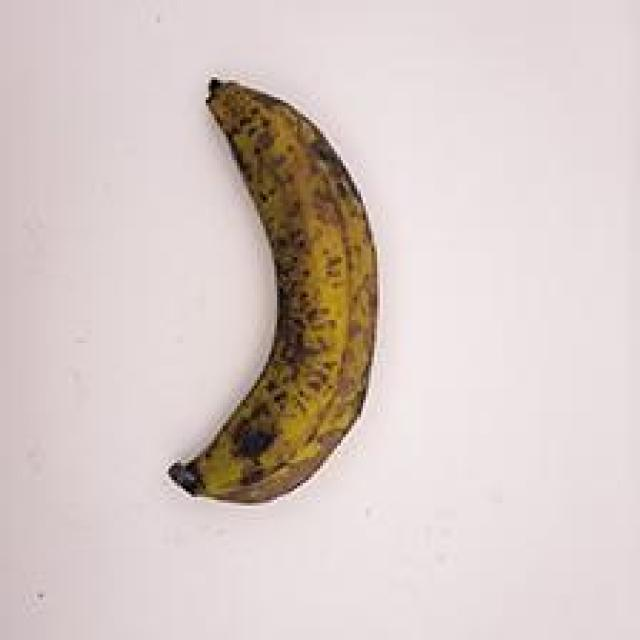Overripe: (132, 52, 426, 548)
